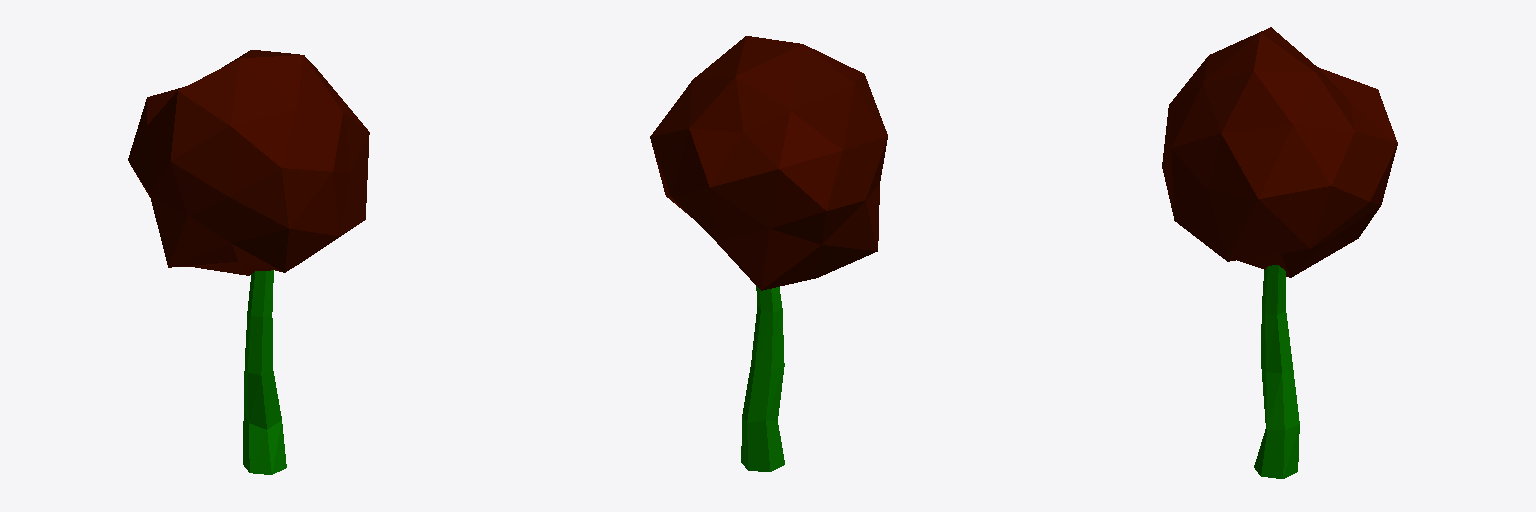
The model's file is baum.obj.
3 renders of one model, left to right at view 1: azimuth 30°, elevation 25°; view 2: azimuth 150°, elevation 25°; view 3: azimuth 270°, elevation 25°, orthographic.
Parts seen in each view (by area): view 1: baum2, baum1; view 2: baum2, baum1; view 3: baum2, baum1.
Part boxes in pixels (bbox=[...]): baum2: bbox=[128, 50, 369, 275]; baum1: bbox=[243, 270, 286, 474]; baum2: bbox=[650, 36, 887, 290]; baum1: bbox=[741, 286, 784, 471]; baum2: bbox=[1162, 27, 1397, 277]; baum1: bbox=[1254, 265, 1299, 478].
Bounding box in the file's own units: 8.88 × 17.41 × 8.83.